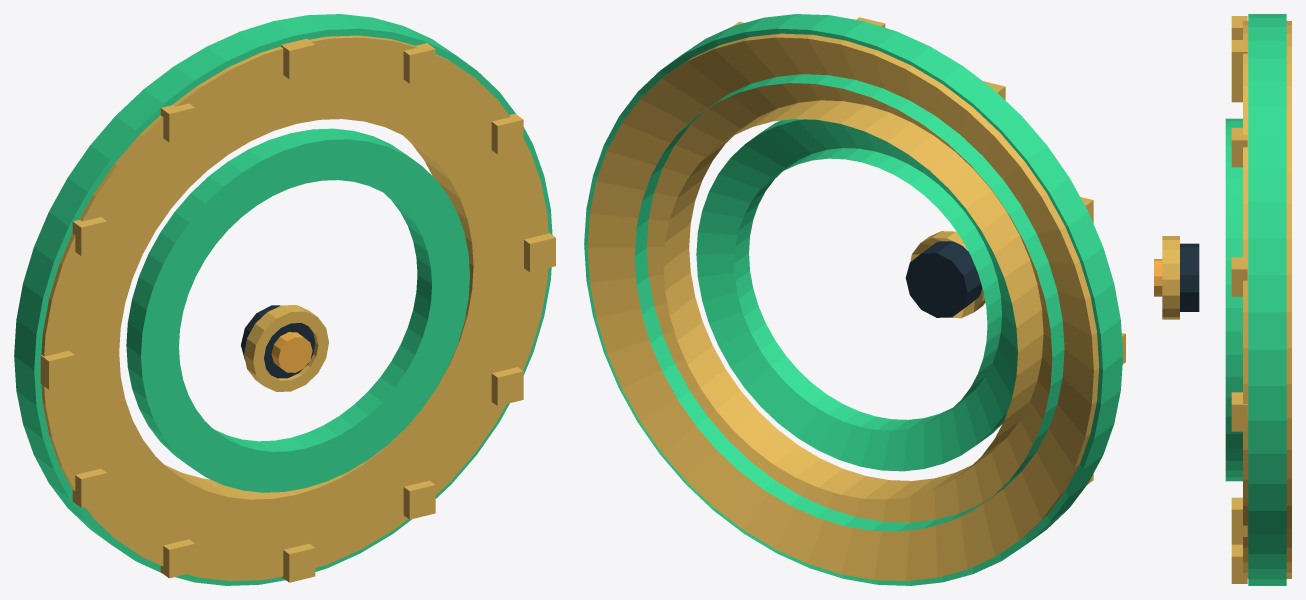
File: 69_L81_MissionReliabilityCertificationBeacon.fbx
The picture shows the model from 3 angles, left to right: view 1: azimuth 30°, elevation 25°; view 2: azimuth 150°, elevation 25°; view 3: azimuth 270°, elevation 25°; orthographic projection. The views are drawn at different scales.
Parts seen in each view (by area): view 1: MissionReliabilityCertificationBeacon, MissionReliabilityCertificationBeacon_Part_0002, MissionReliabilityCertificationBeacon_Part_0006, MissionReliabilityCertificationBeacon_Part_0009, MissionReliabilityCertificationBeacon_Part_0007, MissionReliabilityCertificationBeacon_Part_0005, MissionReliabilityCertificationBeacon_Part_0008, MissionReliabilityCertificationBeacon_Part_0011, MissionReliabilityCertificationBeacon_Part_0004, MissionReliabilityCertificationBeacon_Part_0010, MissionReliabilityCertificationBeacon_Part_0012, MissionReliabilityCertificationBeacon_Part_0013 (+2 smaller); view 2: MissionReliabilityCertificationBeacon, MissionReliabilityCertificationBeacon_Part_0002; view 3: MissionReliabilityCertificationBeacon_Part_0002, MissionReliabilityCertificationBeacon, MissionReliabilityCertificationBeacon_Part_0003, MissionReliabilityCertificationBeacon_Part_0004, MissionReliabilityCertificationBeacon_Part_0005, MissionReliabilityCertificationBeacon_Part_0006, MissionReliabilityCertificationBeacon_Part_0014, MissionReliabilityCertificationBeacon_Part_0013, MissionReliabilityCertificationBeacon_Part_0007, MissionReliabilityCertificationBeacon_Part_0008.
Part boxes in pixels (x1,y1,x2,y2): MissionReliabilityCertificationBeacon: (41, 35, 548, 581); MissionReliabilityCertificationBeacon_Part_0002: (14, 14, 552, 585); MissionReliabilityCertificationBeacon_Part_0006: (281, 38, 315, 79); MissionReliabilityCertificationBeacon_Part_0009: (40, 350, 74, 389); MissionReliabilityCertificationBeacon_Part_0007: (160, 103, 195, 142); MissionReliabilityCertificationBeacon_Part_0005: (403, 43, 435, 83); MissionReliabilityCertificationBeacon_Part_0008: (72, 217, 106, 255); MissionReliabilityCertificationBeacon_Part_0011: (160, 539, 195, 578); MissionReliabilityCertificationBeacon_Part_0004: (491, 113, 523, 154); MissionReliabilityCertificationBeacon_Part_0010: (72, 468, 106, 507); MissionReliabilityCertificationBeacon_Part_0012: (282, 543, 315, 582); MissionReliabilityCertificationBeacon_Part_0013: (403, 480, 435, 519); MissionReliabilityCertificationBeacon: (587, 33, 1099, 581); MissionReliabilityCertificationBeacon_Part_0002: (584, 14, 1122, 585); MissionReliabilityCertificationBeacon_Part_0002: (1248, 14, 1286, 585); MissionReliabilityCertificationBeacon: (1154, 21, 1291, 578); MissionReliabilityCertificationBeacon_Part_0003: (1231, 392, 1247, 431); MissionReliabilityCertificationBeacon_Part_0004: (1231, 257, 1247, 296); MissionReliabilityCertificationBeacon_Part_0005: (1231, 128, 1247, 167); MissionReliabilityCertificationBeacon_Part_0006: (1231, 40, 1247, 79); MissionReliabilityCertificationBeacon_Part_0014: (1231, 497, 1247, 536); MissionReliabilityCertificationBeacon_Part_0013: (1231, 544, 1247, 583); MissionReliabilityCertificationBeacon_Part_0007: (1231, 16, 1247, 39); MissionReliabilityCertificationBeacon_Part_0008: (1231, 79, 1242, 102).
Bounding box in the file's own units: 82 × 82 × 19.75.
